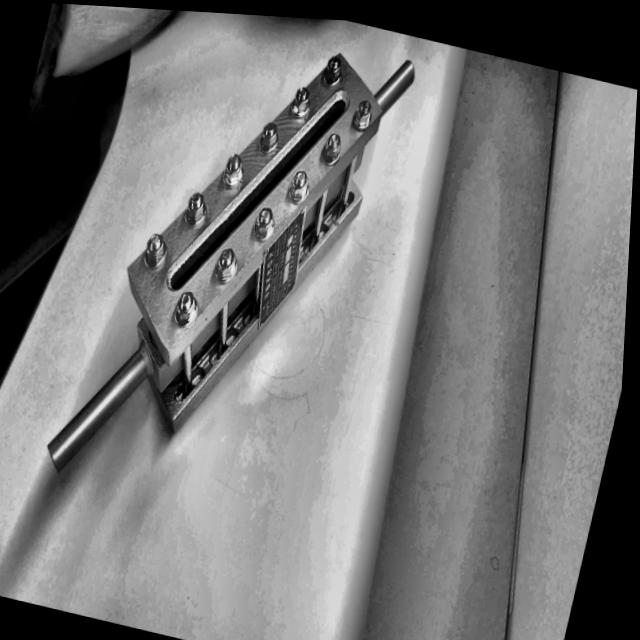ShuiWeiQi_12: (77, 4, 433, 493)
